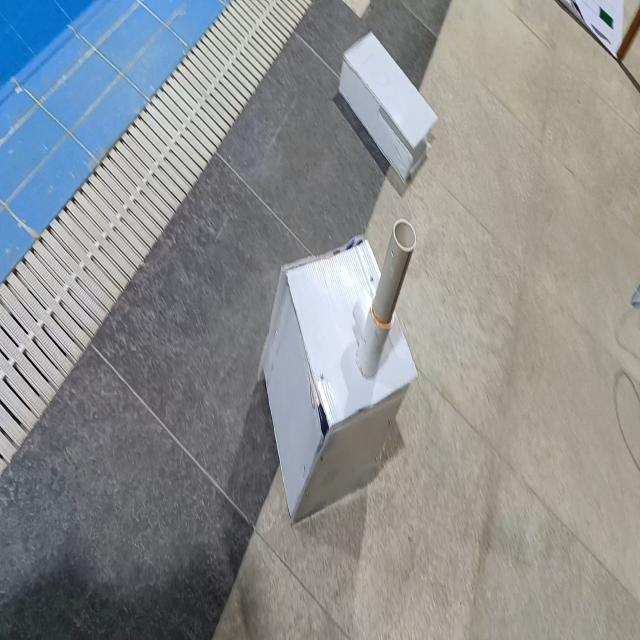Cube: (260, 232, 419, 524)
Cuboid: (337, 29, 439, 184)
